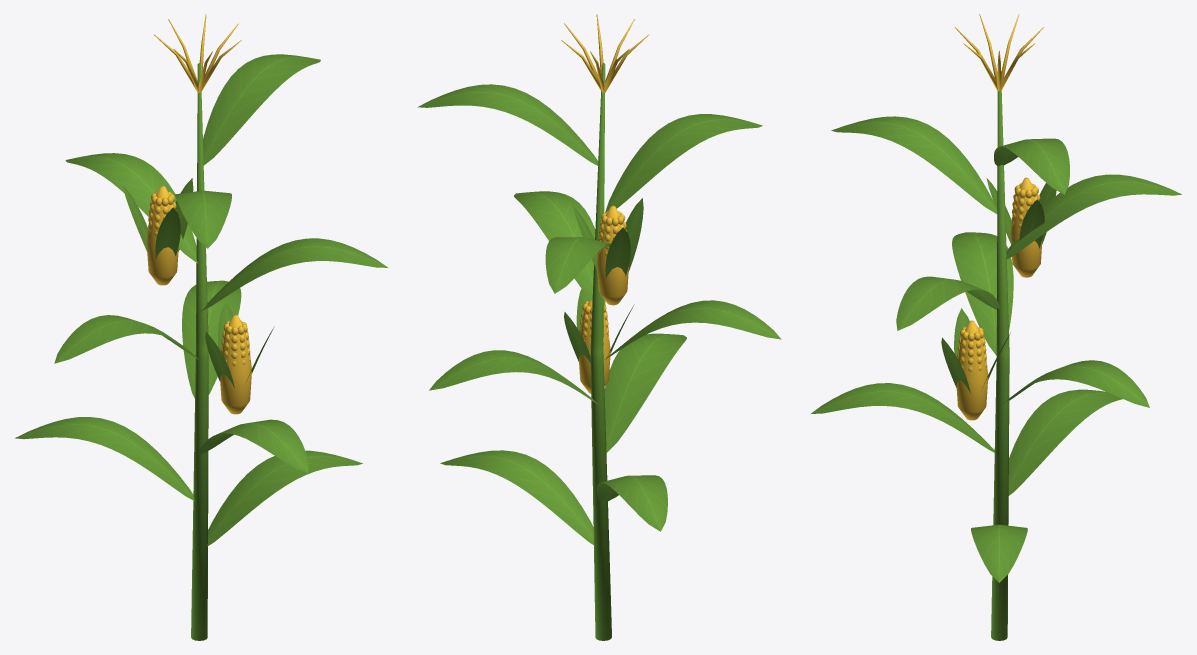
Rendered from crop-corn-ripe.glb.
The picture shows the model from 3 angles, left to right: view 1: azimuth 30°, elevation 25°; view 2: azimuth 150°, elevation 25°; view 3: azimuth 270°, elevation 25°; orthographic projection.
Parts seen in each view (by area): view 1: crop_corn_ripe; view 2: crop_corn_ripe; view 3: crop_corn_ripe.
Boxes of the visible parts, x1,y1,x2,y2 form: crop_corn_ripe: (15, 14, 387, 640); crop_corn_ripe: (417, 14, 781, 640); crop_corn_ripe: (811, 14, 1181, 640).
Size of the model in its own units: 0.9924 by 1.76 by 0.9809.
Materials: 2 (1 with a texture image).
